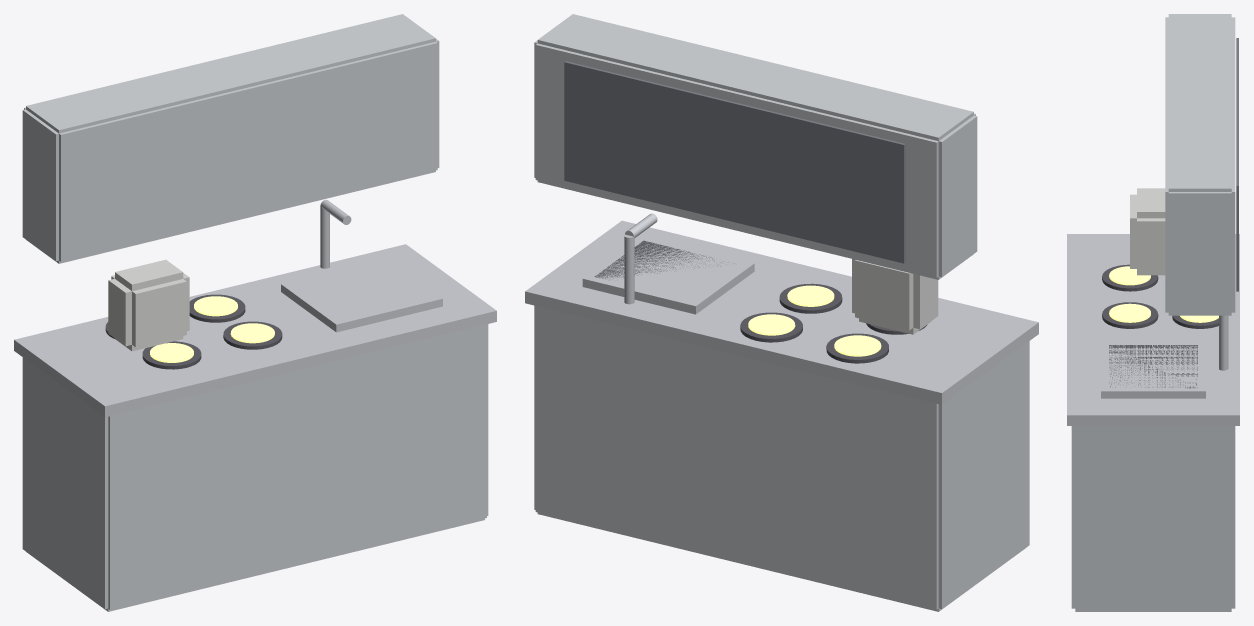
File: base_kitchen.fbx
3 renders of one model, left to right at view 1: azimuth 30°, elevation 25°; view 2: azimuth 150°, elevation 25°; view 3: azimuth 270°, elevation 25°, orthographic. The views are drawn at different scales.
Visible parts, largest first — view 1: base_kitchen; view 2: base_kitchen; view 3: base_kitchen.
Boxes of the visible parts, x1,y1,x2,y2 form: base_kitchen: (14, 14, 496, 611); base_kitchen: (525, 14, 1038, 611); base_kitchen: (1067, 14, 1239, 611).
Size of the model in its own units: 1.84 by 2 by 0.74.
